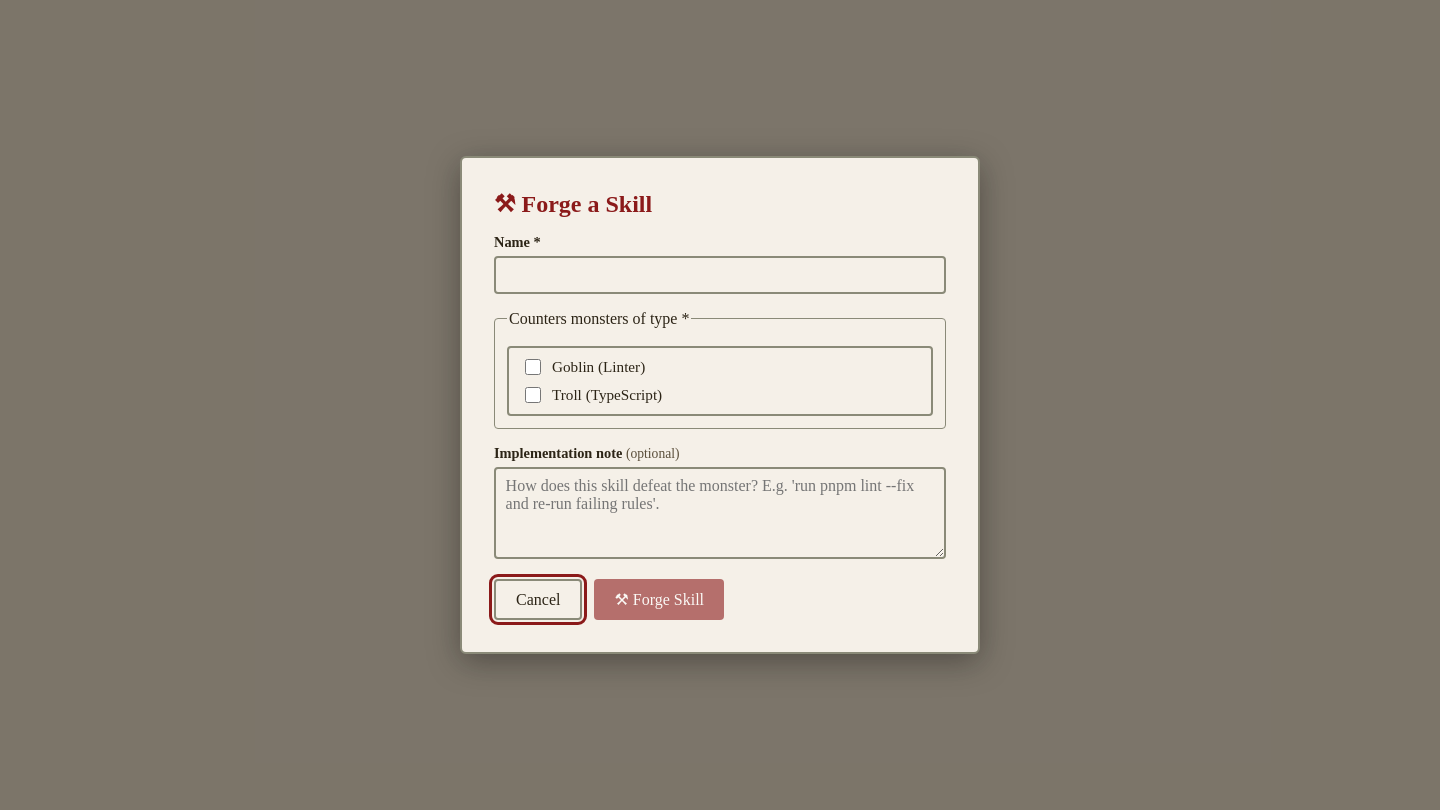
Test case: ForgeSkillModal — validation › shows inline name error on blur when name is empty
The width and height of the screenshot is (1440, 810).
Click the field labelled "Name *".
click(720, 274)  # box [494,256,946,294]
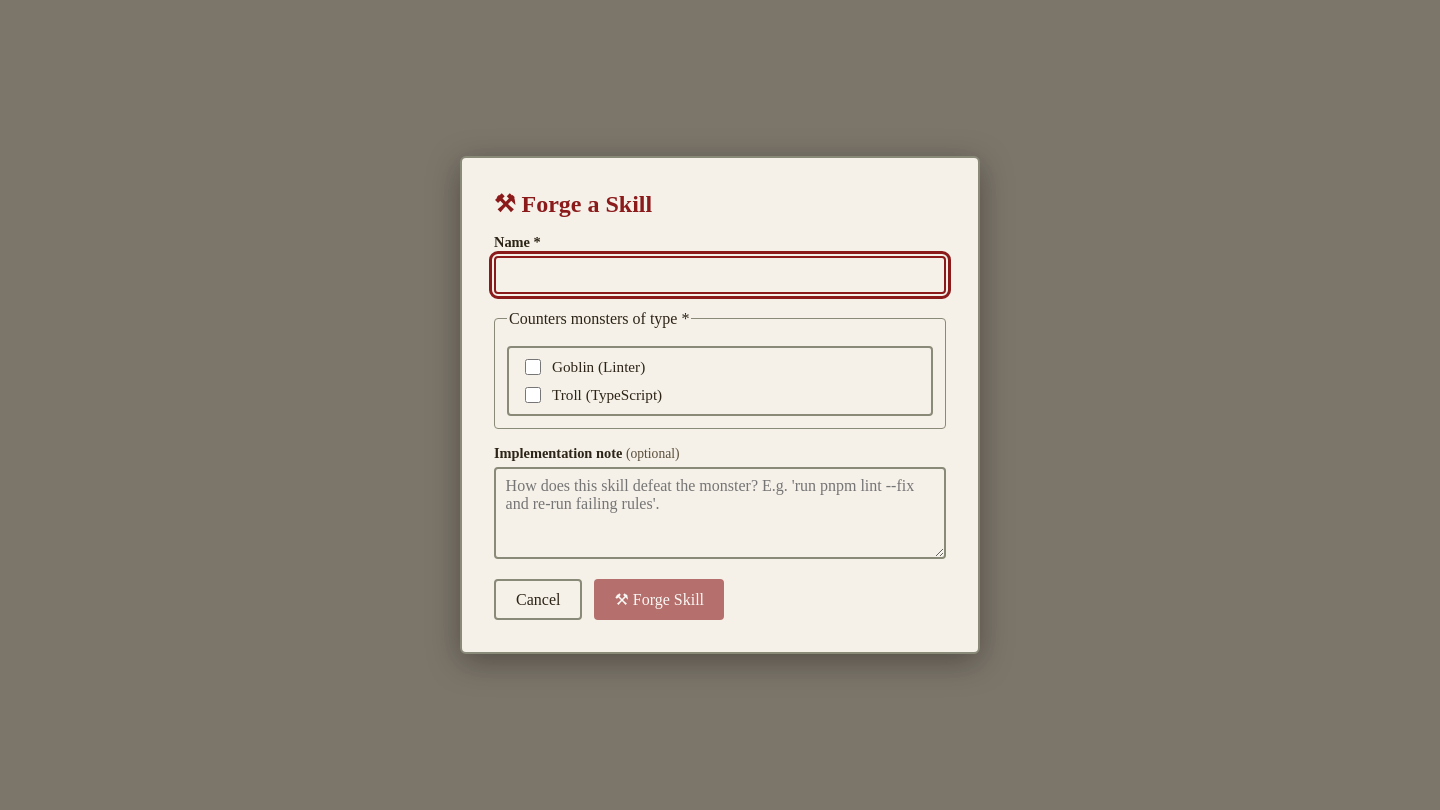
Press Tab
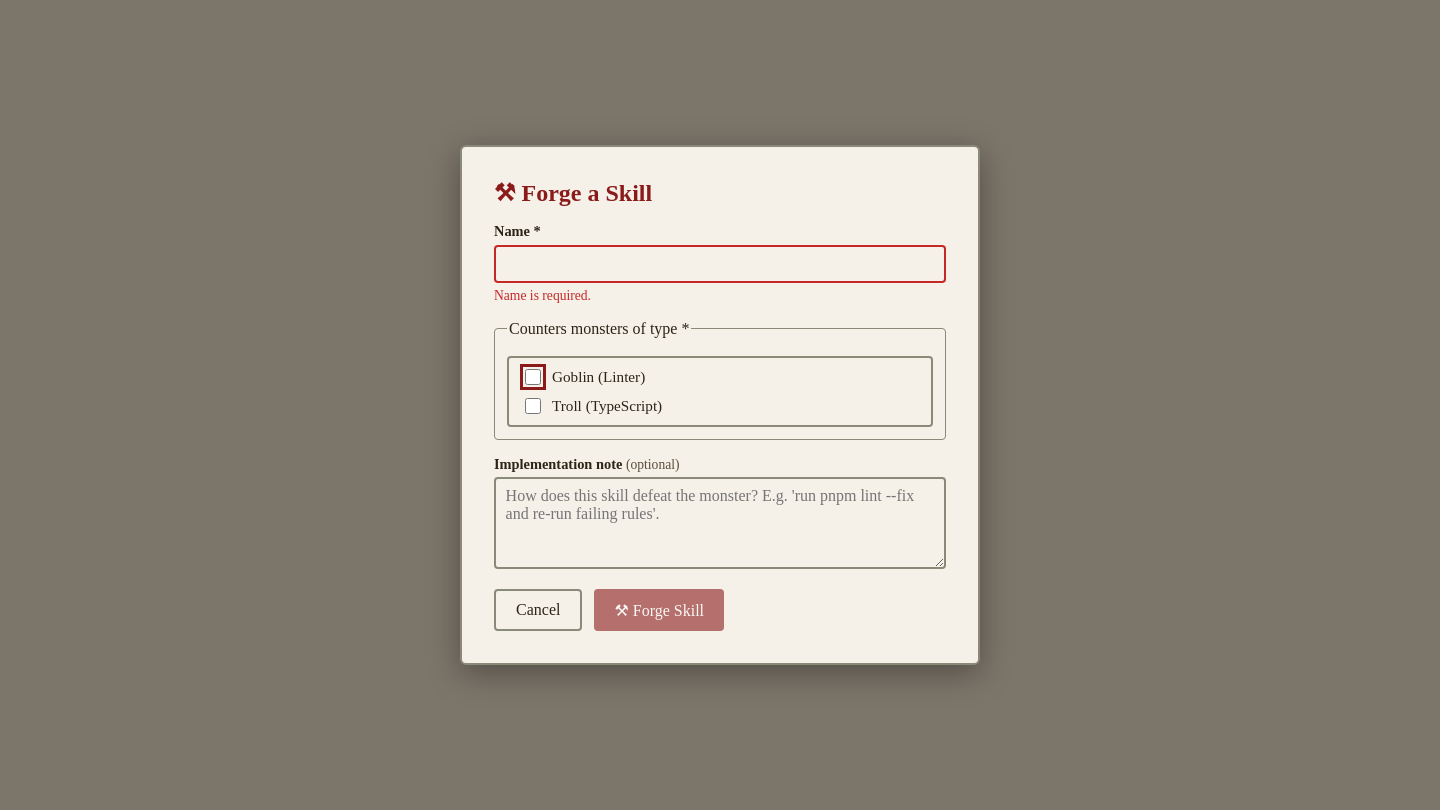
Expected: the text "Name is required." is shown, [494,288,591,303]
